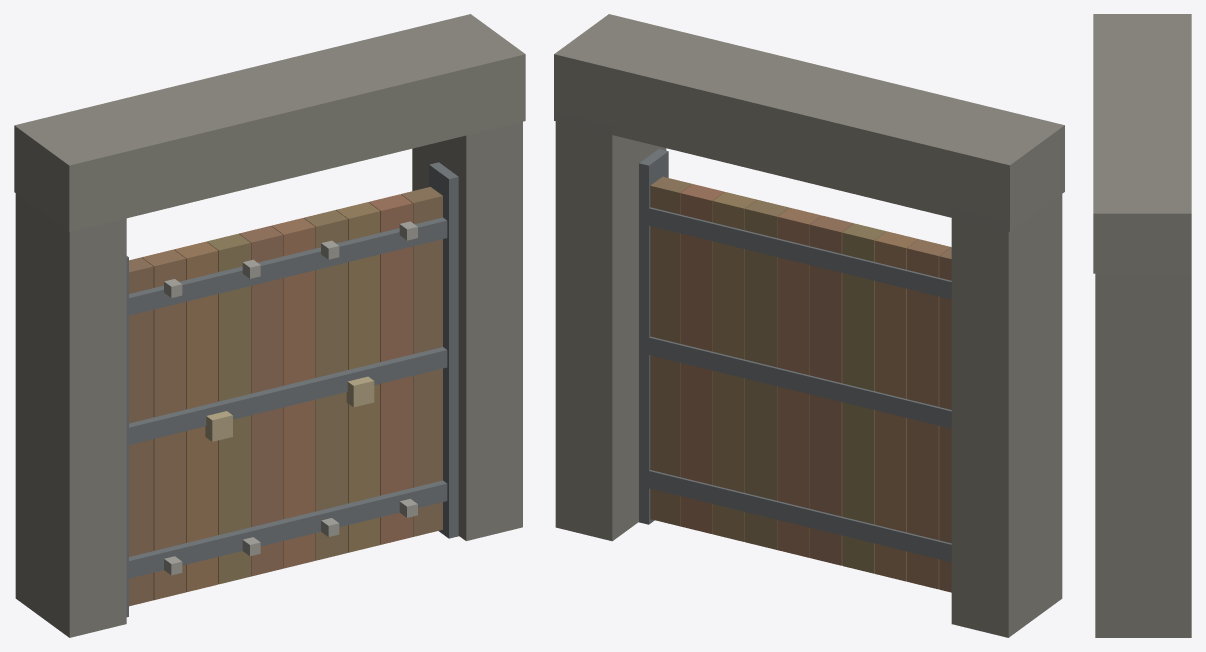
Rendered from gate_back_3d.glb.
The picture shows the model from 3 angles, left to right: view 1: azimuth 30°, elevation 25°; view 2: azimuth 150°, elevation 25°; view 3: azimuth 270°, elevation 25°; orthographic projection. The views are drawn at different scales.
Visible parts, largest first — view 1: world; view 2: world; view 3: world.
Boxes of the visible parts, bbox=[...] form: world: bbox=[14, 14, 525, 637]; world: bbox=[554, 14, 1064, 637]; world: bbox=[1093, 14, 1191, 637].
Bounding box in the file's own units: 4.65 × 4.62 × 0.97.
